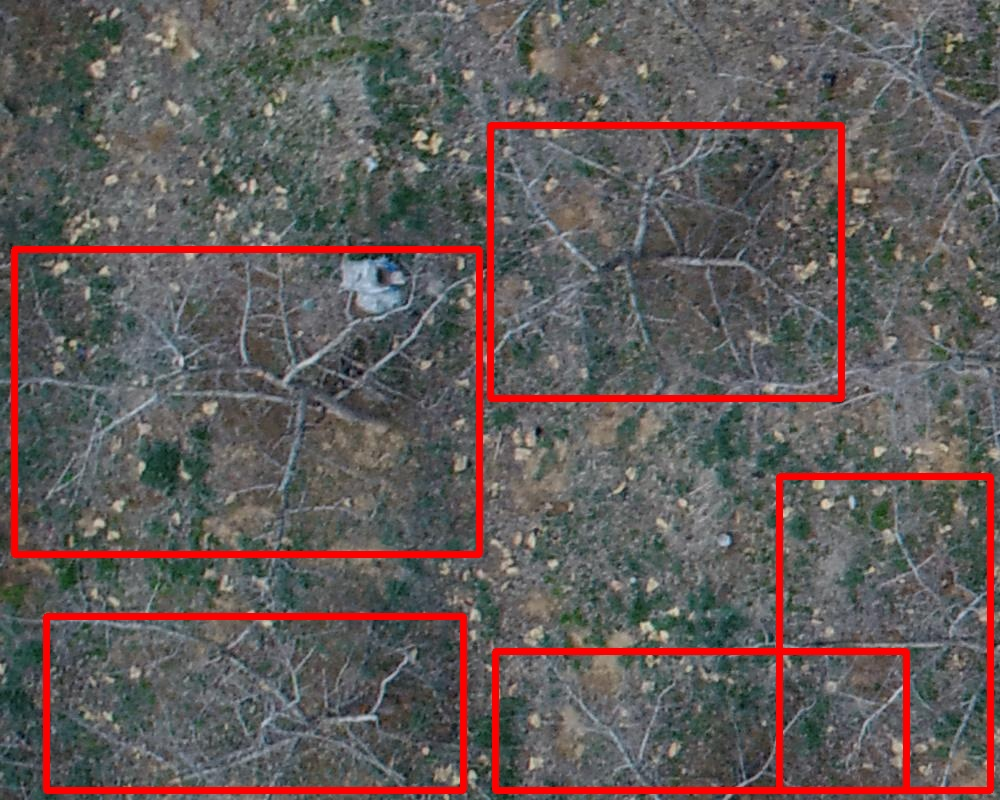apple: (14, 249, 479, 554), (490, 125, 841, 398), (46, 616, 463, 790), (779, 476, 990, 790), (495, 651, 906, 790)
